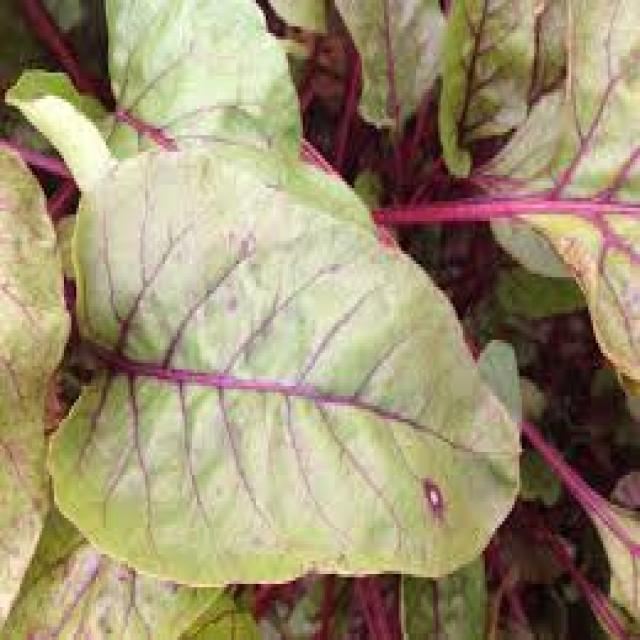organic waste: (44, 148, 520, 578), (371, 0, 637, 389), (2, 0, 298, 208), (2, 492, 256, 636), (0, 138, 66, 636), (520, 416, 638, 636), (436, 0, 568, 168), (330, 0, 443, 122), (397, 551, 488, 637), (268, 0, 325, 33)
